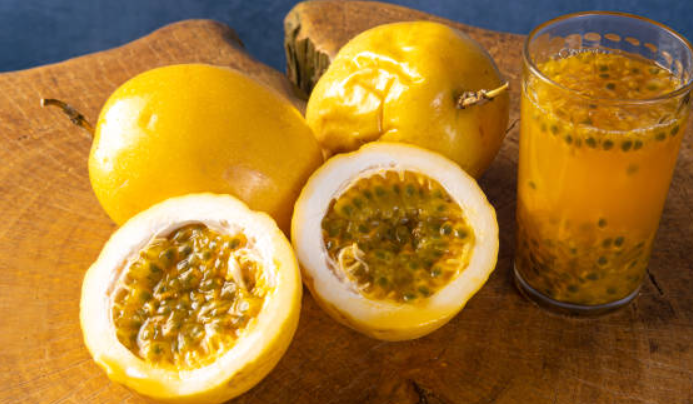maracuya: (83, 64, 331, 242), (299, 14, 514, 193)
